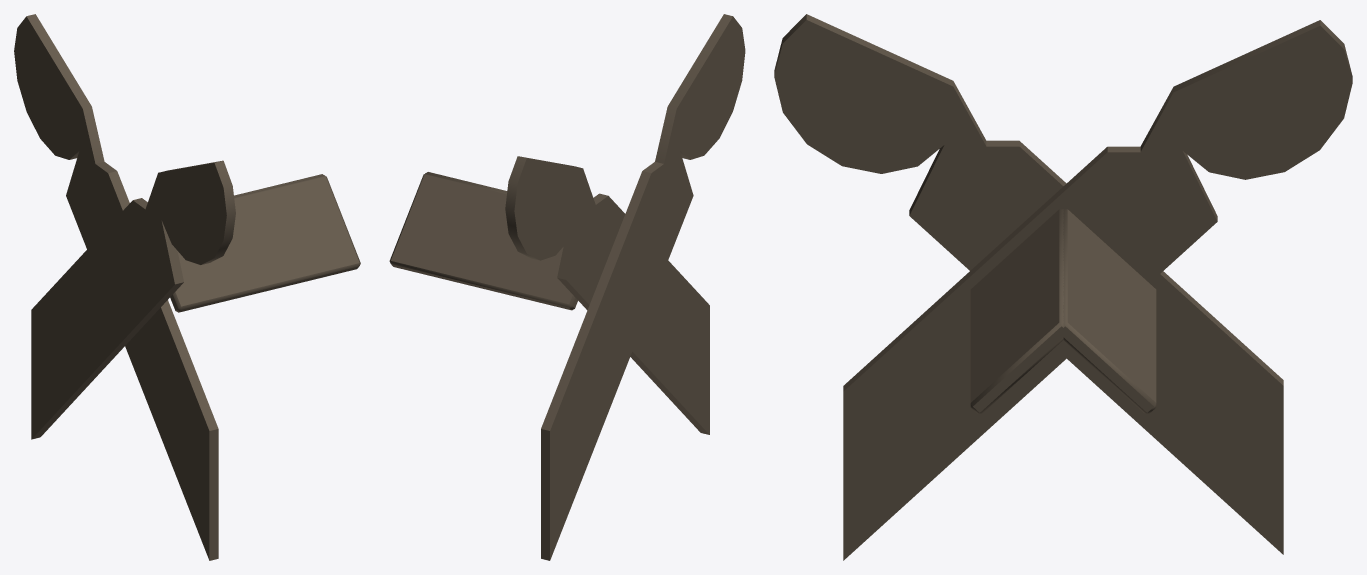
File: dach_zier_l.glb
The picture shows the model from 3 angles, left to right: view 1: azimuth 30°, elevation 25°; view 2: azimuth 150°, elevation 25°; view 3: azimuth 270°, elevation 25°; orthographic projection. The views are drawn at different scales.
Visible parts, largest first — view 1: dach_zier_l; view 2: dach_zier_l; view 3: dach_zier_l.
Part boxes in pixels (x1,y1,x2,y2): dach_zier_l: (14, 14, 360, 560); dach_zier_l: (389, 14, 745, 560); dach_zier_l: (774, 14, 1352, 560).
Bounding box in the file's own units: 0.575 × 1.07 × 1.05.
